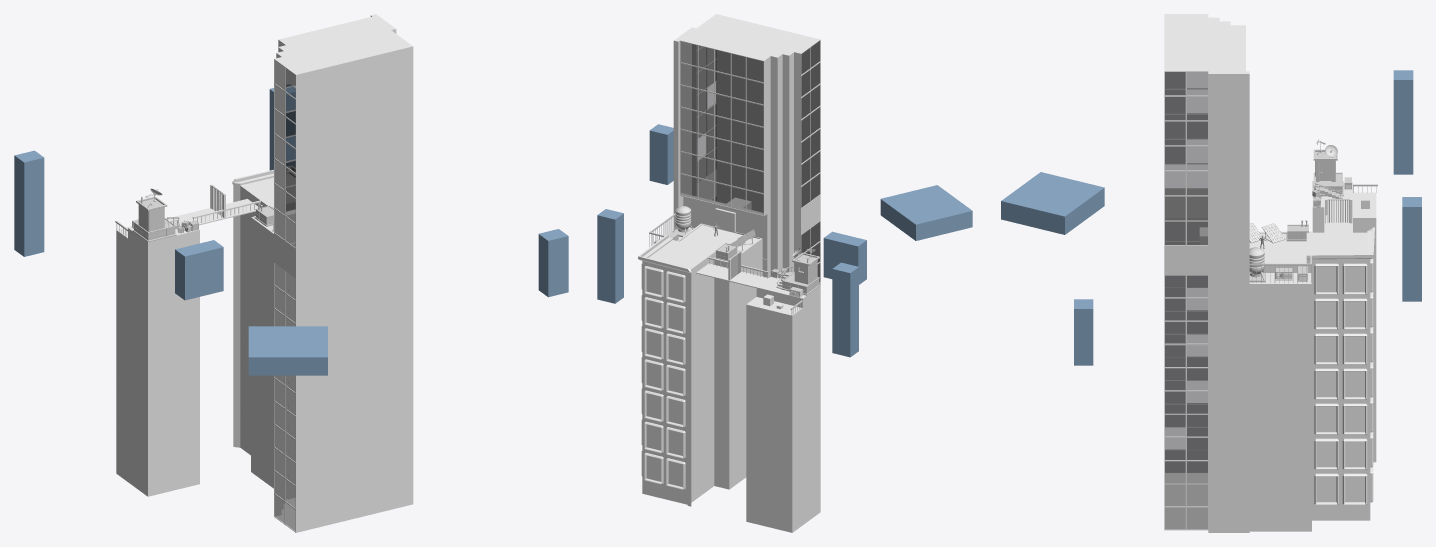
File: denemeee.fbx
3 views of the same model, side by side, from view 1: azimuth 30°, elevation 25°; view 2: azimuth 150°, elevation 25°; view 3: azimuth 270°, elevation 25° (orthographic). The views are drawn at different scales.
Parts seen in each view (by area): view 1: Cube__17_.001, Cube__16_, Cube__17_, Cube__18_, Cube__25_, Cube__27_, Cube__28_, Cube__32_, Cube.008, Cube__26_, Cube__15_; view 2: Cube__17_.001, Cube__18_, Cube__16_, Cube__17_, Cube__25_, Cube__27_, Cube__26_, Cube__28_, Cube__32_, Cube.008, Cube__15_, Cylinder; view 3: Cube__17_.001, Cube__18_, Cube__24_, Cube__25_, Cube__16_, Cube__27_, Cube__26_, Cube__17_, Cube.008, Cube__32_, Cube__15_, Cylinder.
Boxes of the visible parts, x1,y1,x2,y2 form: Cube__17_.001: (274,14,413,532); Cube__16_: (116,215,199,496); Cube__17_: (251,216,295,499); Cube__18_: (232,166,295,455); Cube__25_: (248,326,327,375); Cube__27_: (14,150,44,256); Cube__28_: (175,240,223,300); Cube__32_: (538,229,568,297); Cube.008: (132,188,179,242); Cube__26_: (269,84,295,170); Cube__15_: (180,199,258,225); Cube__17_.001: (673,14,820,284); Cube__18_: (638,234,715,506); Cube__16_: (746,277,820,532); Cube__17_: (677,223,762,489); Cube__25_: (880,185,972,240); Cube__27_: (832,262,858,357); Cube__26_: (597,209,623,303); Cube__28_: (823,231,866,284); Cube__32_: (649,124,673,184); Cube.008: (776,244,820,295); Cube__15_: (696,263,768,287); Cylinder: (672,206,692,237); Cube__17_.001: (1164,14,1249,532); Cube__18_: (1306,227,1374,520); Cube__24_: (1249,273,1311,531); Cube__25_: (1001,172,1104,234); Cube__16_: (1312,182,1376,462); Cube__27_: (1393,70,1413,174); Cube__26_: (1402,197,1421,301); Cube__17_: (1249,231,1311,272); Cube.008: (1312,139,1343,198); Cube__32_: (1074,299,1093,365); Cube__15_: (1324,207,1352,232); Cylinder: (1249,247,1265,282).
Size of the model in its own units: 4136 by 4703 by 3907.
